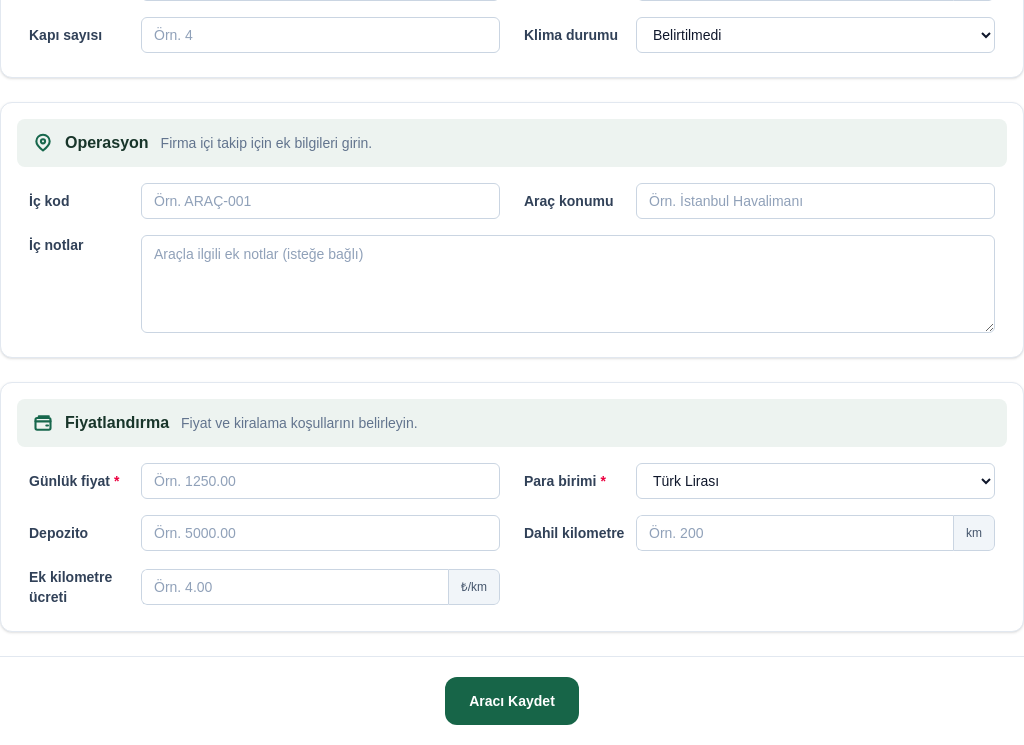
VehicleForm › frontend validasyon hatasına öncelik verir
(page scrolled)
What coordinates should you click on to do the following:
click the button "Aracı Kaydet"
I would click on:
 (512, 701)
Its box is [445,677,579,725].
(page scrolled)
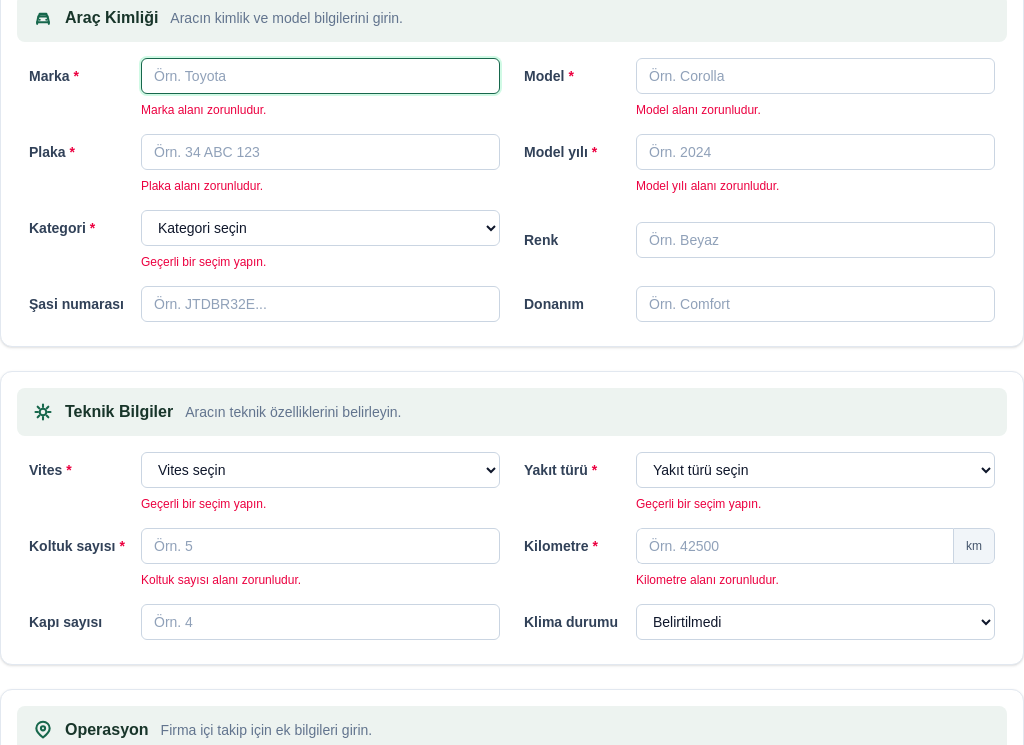
Expected: the text "Plaka alanı zorunludur." is shown, [141,179,263,193]
